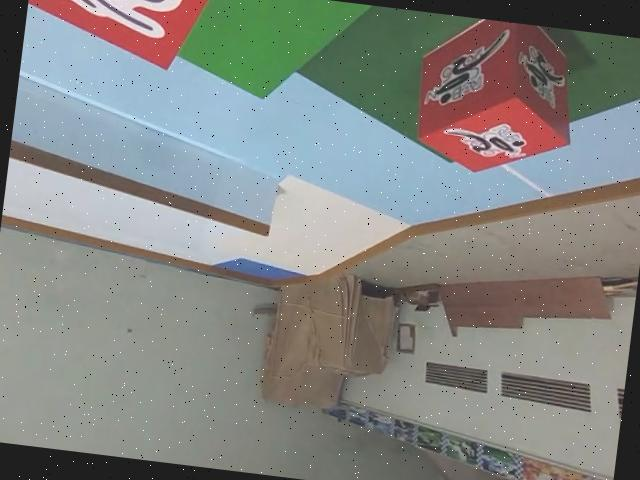R1: (406, 11, 587, 190)
R2 Fake: (19, 0, 235, 87)
